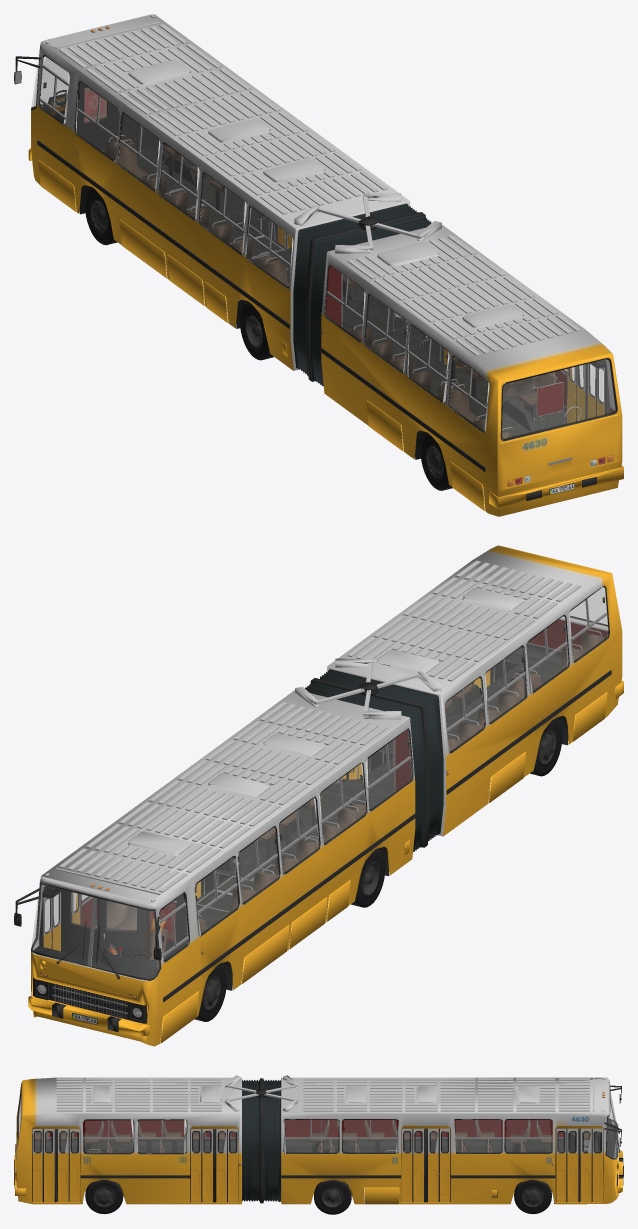
Rendered from ikarus.glb.
3 views of the same model, one above another, from view 1: azimuth 30°, elevation 25°; view 2: azimuth 150°, elevation 25°; view 3: azimuth 270°, elevation 25° (orthographic). The views are drawn at different scales.
Visible parts, largest first — view 1: rear_section_body_base_colour_0, rear_section_body_dark_metal_0, rear_section_body_lights_0, front_section_interior_linoleum_0, front_section_interior_brown_leather_0, front_section_interior_red_wood_0; view 2: rear_section_body_base_colour_0, rear_section_body_dark_metal_0, rear_section_body_lights_0, front_section_interior_linoleum_0, front_section_interior_brown_leather_0, front_section_interior_red_wood_0, front_section_interior_black_plastic.001_0, front_section_body_metal_grid_0; view 3: rear_section_body_base_colour_0, rear_section_body_dark_metal_0, rear_section_body_lights_0, front_section_interior_red_wood_0, front_section_interior_brown_leather_0, front_section_interior_linoleum_0, front_section_interior_black_plastic.001_0.
Boxes of the visible parts, x1,y1,x2,y2 form: rear_section_body_base_colour_0: (28,14,623,516); rear_section_body_dark_metal_0: (14,16,617,500); rear_section_body_lights_0: (31,15,615,486); front_section_interior_linoleum_0: (136,147,566,436); front_section_interior_brown_leather_0: (102,138,557,438); front_section_interior_red_wood_0: (118,109,614,416); rear_section_body_base_colour_0: (28,545,623,1046); rear_section_body_dark_metal_0: (14,585,611,1031); rear_section_body_lights_0: (31,587,607,1017); front_section_interior_linoleum_0: (96,654,560,929); front_section_interior_brown_leather_0: (95,632,604,970); front_section_interior_red_wood_0: (81,619,608,927); front_section_interior_black_plastic.001_0: (33,885,157,996); front_section_body_metal_grid_0: (53,983,127,1018); rear_section_body_base_colour_0: (14,1075,622,1204); rear_section_body_dark_metal_0: (14,1078,623,1214); rear_section_body_lights_0: (15,1077,617,1179); front_section_interior_red_wood_0: (36,1119,564,1137); front_section_interior_brown_leather_0: (34,1119,589,1152); front_section_interior_linoleum_0: (34,1138,597,1201); front_section_interior_black_plastic.001_0: (571,1118,617,1158).
Bounding box in the file's own units: 5.88 × 6.29 × 33.06.
Materials: 31 (31 with a texture image).
